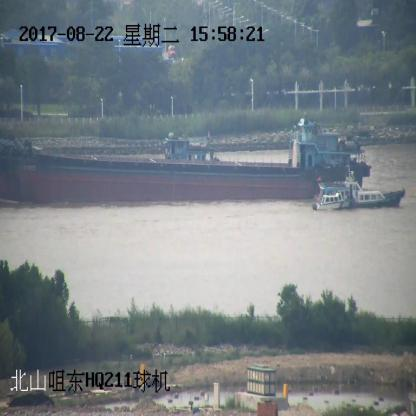Bulk Carrier: (0, 117, 372, 198)
